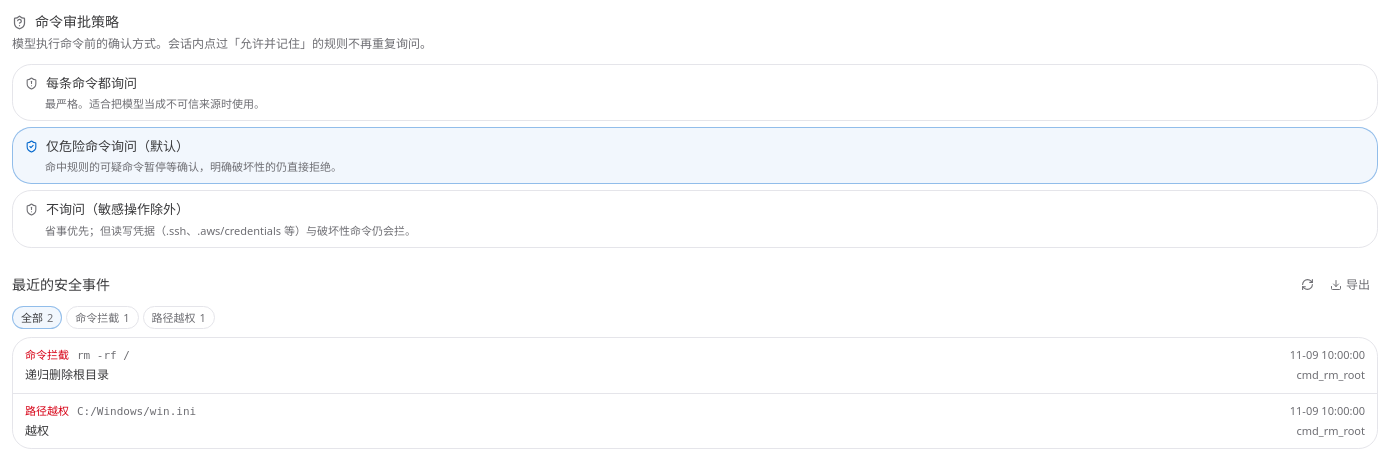
it: SecuritySection › 按类型筛选只留下对应事件
This screenshot has width=1390, height=466.
Expected: the text "rm -rf /" is shown, [77,349,130,362]
筛选芯片用「全部 + 各类型」两组，点「路径越权」后命令拦截应消失
Click the button "路径越权1" at x=179, y=318, box [143,306,215,329]
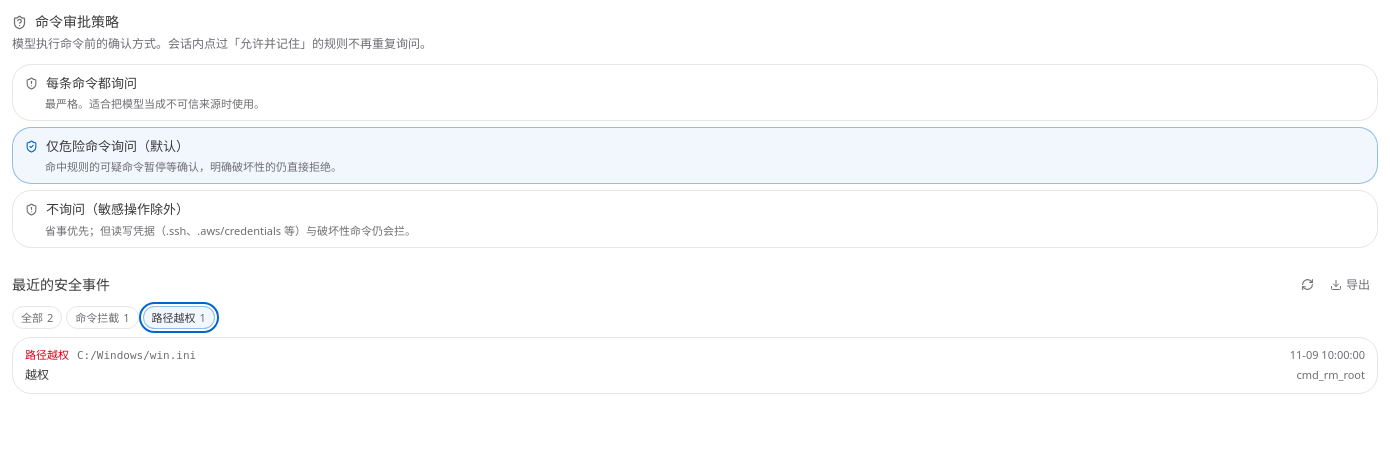
Expected: the text "C:/Windows/win.ini" is shown, [77,349,196,362]
Result: the text "rm -rf /" is gone
